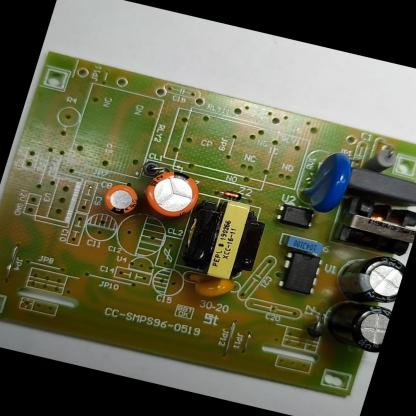Cap1: (136, 164, 204, 223)
Cap2: (98, 180, 143, 220)
Cap3: (330, 244, 408, 309)
Cap4: (323, 294, 392, 356)
MOSFET: (274, 248, 324, 298)
Mov: (295, 146, 357, 219)
Resistor: (362, 142, 402, 177)
Transformer: (181, 192, 272, 287), (334, 190, 416, 258)
